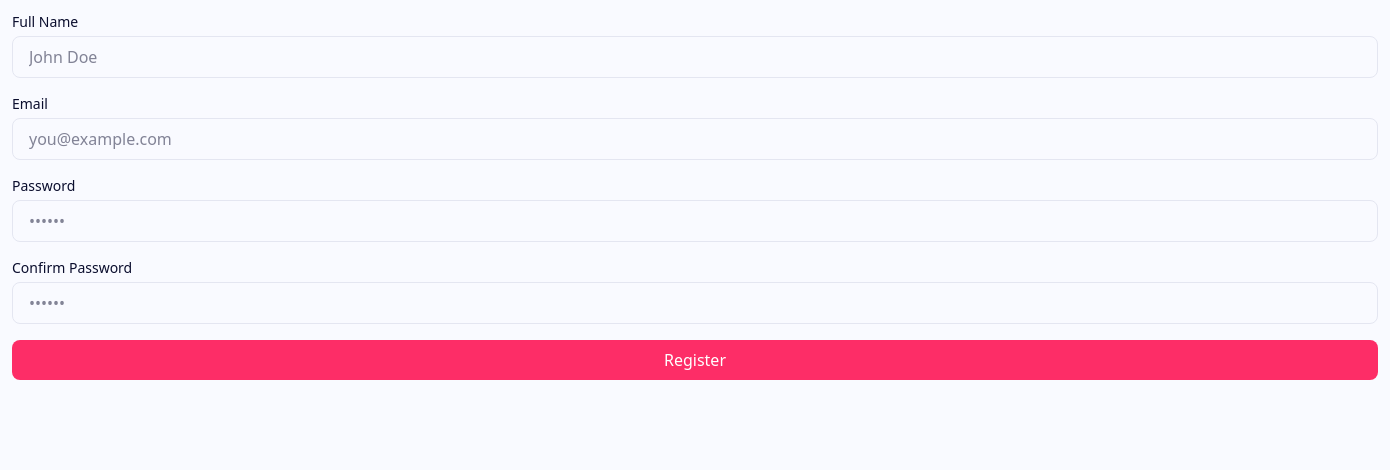
RegisterForm › Form Validation - Full Name › should clear full name error when user starts typing
Click the button "Register" at (695, 360), box [12, 340, 1378, 380]
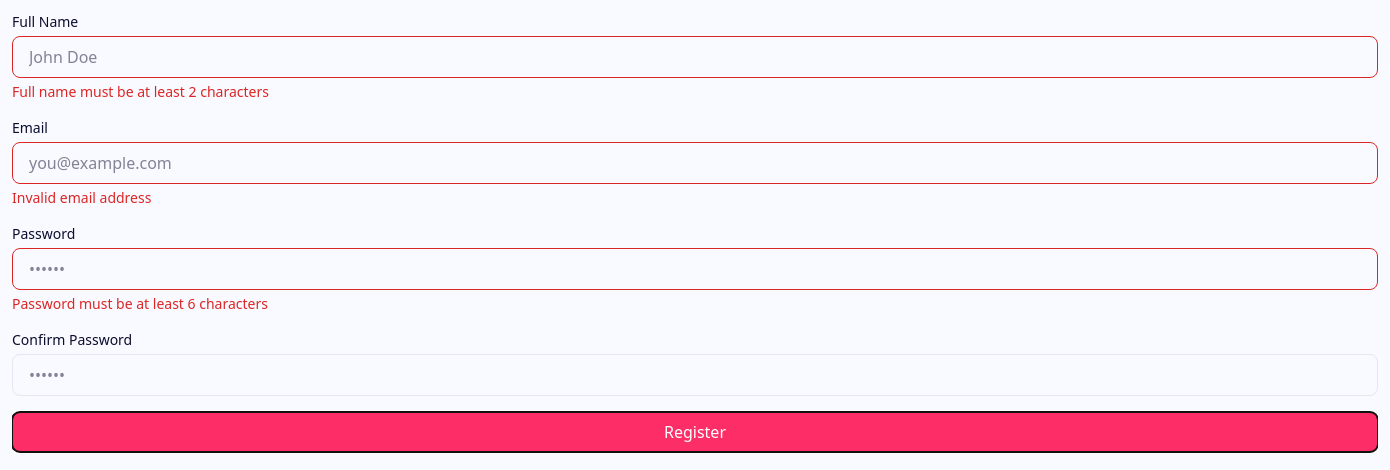
Now the text "Full name must be at least 2 characters" is shown, box [12, 82, 269, 101]
Type "Jane Doe" into the field with placeholder "John Doe" at (695, 57), box [12, 36, 1378, 78]
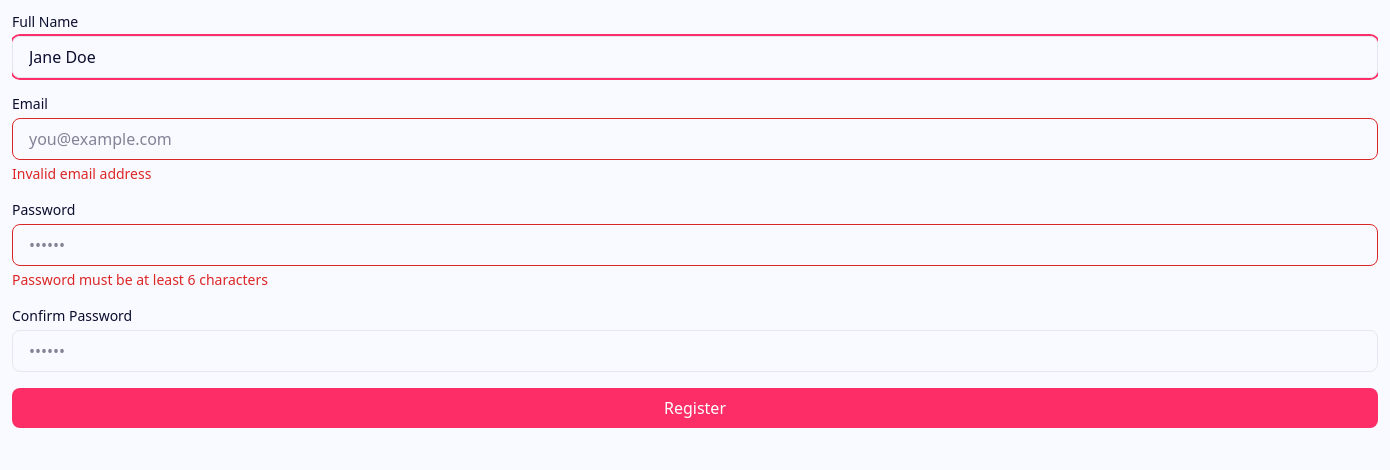
Now the text "Full name must be at least 2 characters" is gone
